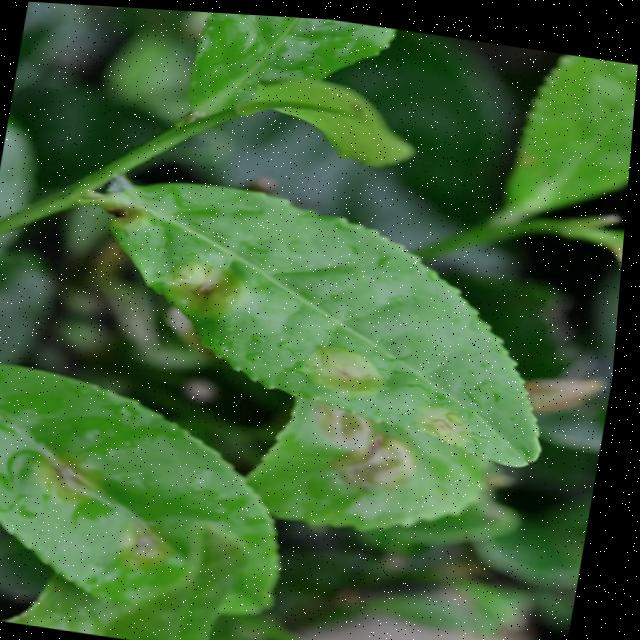Tea cake: (168, 252, 256, 319), (313, 345, 394, 388), (430, 403, 487, 440)
